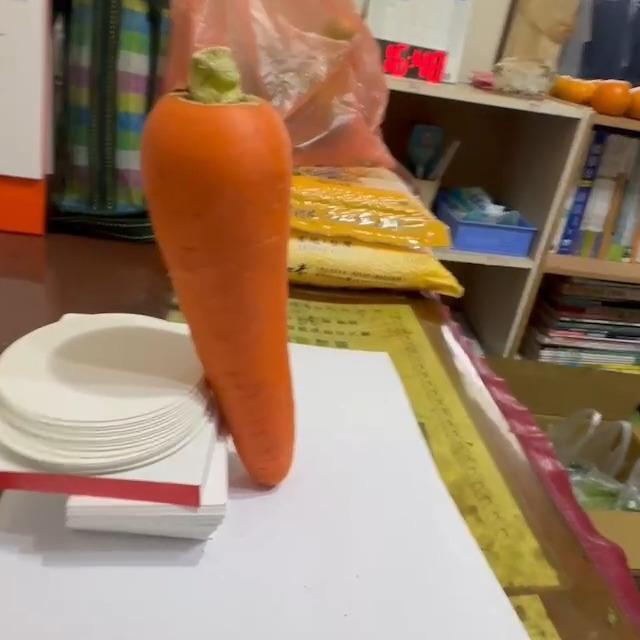carrot: (143, 47, 297, 494)
